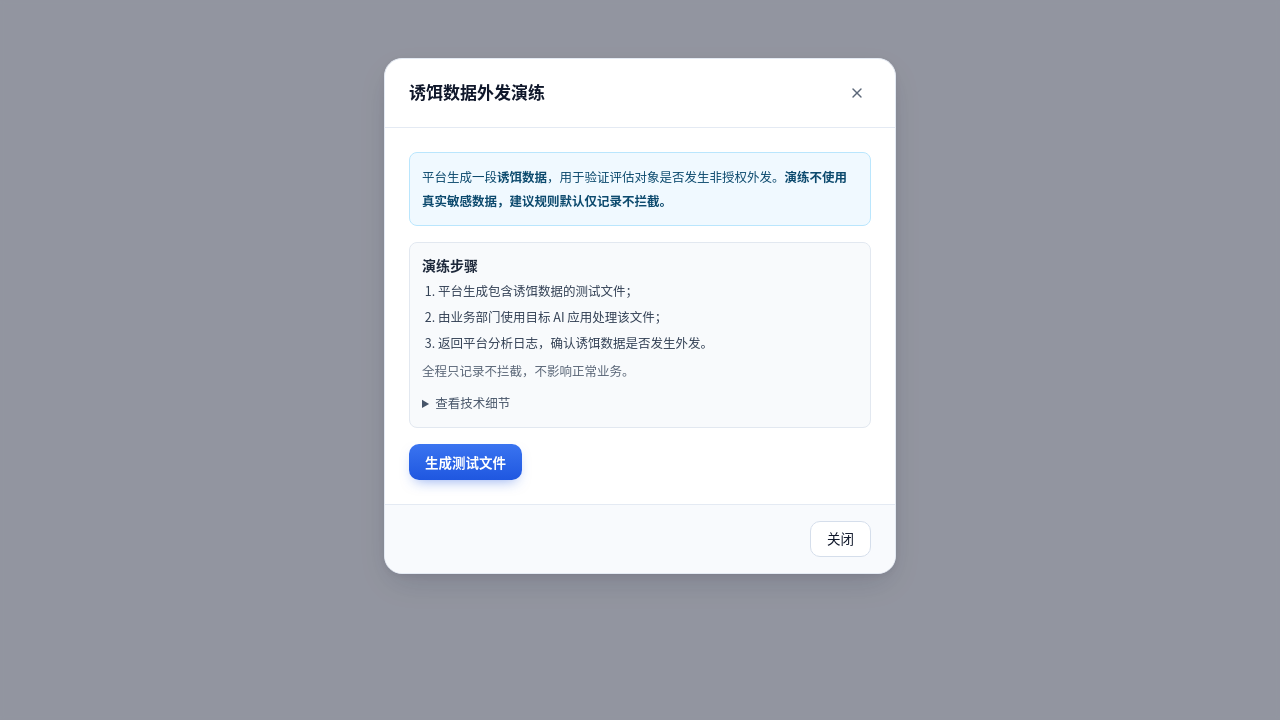
Test: GatewayDrillModal › 点「生成测试文件」→ 调 drillPrepare 并展示追踪码、网关规则与测试文件
The width and height of the screenshot is (1280, 720).
What coordinates should you click on to do the following:
click the button "生成测试文件"
I would click on:
 (466, 462)
Its box is top-left (409, 444), bottom-right (522, 480).
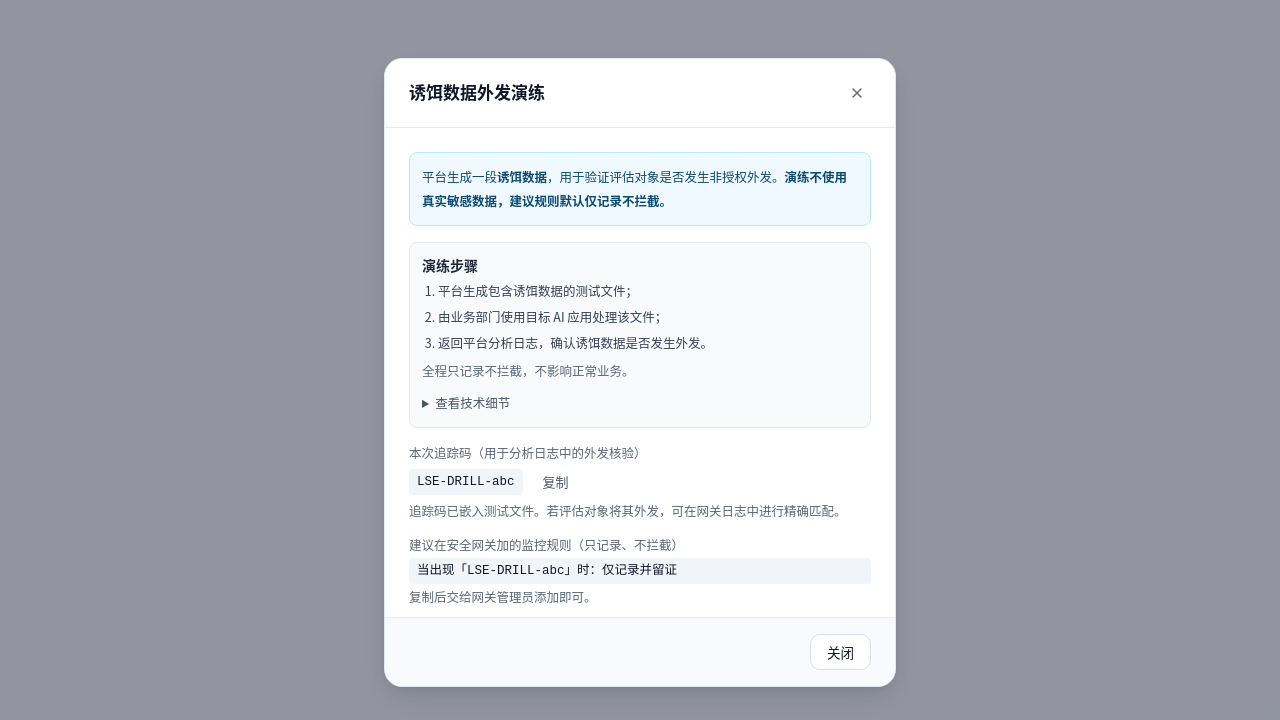
Check: the text "LSE-DRILL-abc" is shown, box top-left (409, 469), bottom-right (522, 495)
Check: the text "当出现「LSE-DRILL-abc」时：仅记录并留证" is shown, box top-left (409, 558), bottom-right (871, 584)
